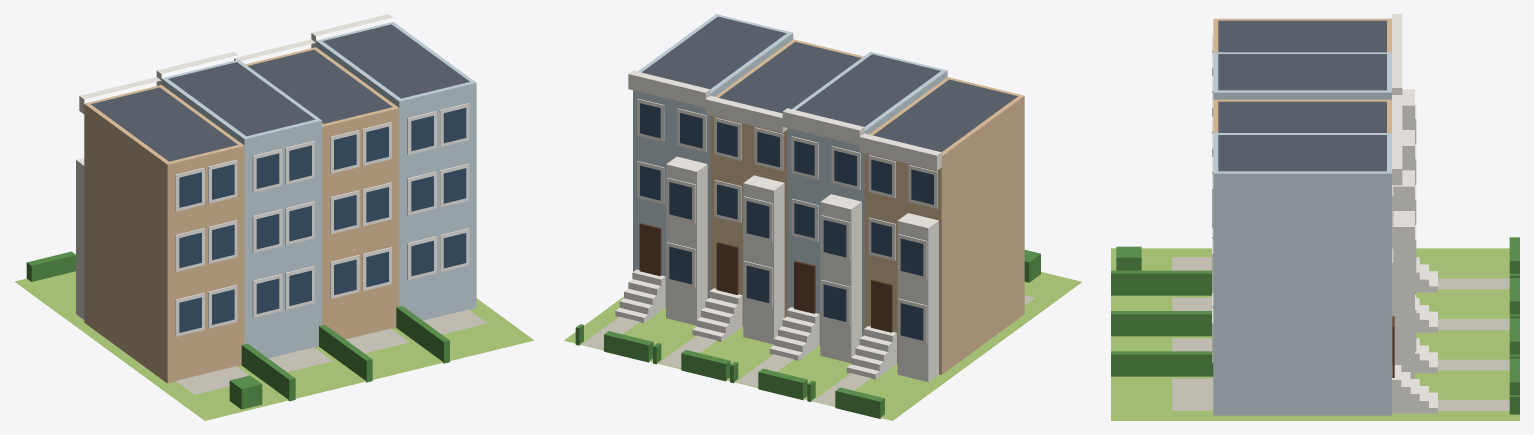
3 views of the same model, side by side, from view 1: azimuth 30°, elevation 25°; view 2: azimuth 150°, elevation 25°; view 3: azimuth 270°, elevation 25° (orthographic). The views are drawn at different scales.
Parts seen in each view (by area): view 1: house (×4), roof (×4), window_glass (×24), window_frame (×24), lawn, hedge (×4), patio (×4), bay, cornice (×2), tree_spot; view 2: house (×4), roof (×4), bay (×4), window_glass (×20), lawn, steps (×4), window_frame (×14), cornice (×4), door (×4), hedge (×4), path (×4), tree_spot; view 3: house (×4), roof (×4), lawn, hedge (×7), bay (×4), steps (×4), path (×4), patio (×4), cornice (×2), tree_spot.
Boxes of the visible parts, <box> form: house (×4): <box>84,22,476,383</box>; roof (×4): <box>91,24,469,161</box>; window_glass (×24): <box>179,108,466,332</box>; window_frame (×24): <box>175,103,469,336</box>; lawn: <box>15,271,534,420</box>; hedge (×4): <box>26,251,449,401</box>; patio (×4): <box>176,309,486,394</box>; bay: <box>76,158,84,319</box>; cornice (×2): <box>79,52,238,113</box>; tree_spot: <box>229,375,262,409</box>; house (×4): <box>633,14,1024,374</box>; roof (×4): <box>642,16,1017,152</box>; bay (×4): <box>666,156,938,381</box>; window_glass (×20): <box>640,103,933,340</box>; lawn: <box>564,272,1081,420</box>; steps (×4): <box>615,269,896,379</box>; window_frame (×14): <box>666,108,937,344</box>; cornice (×4): <box>628,70,941,170</box>; door (×4): <box>639,223,892,332</box>; hedge (×4): <box>604,331,884,418</box>; path (×4): <box>582,316,870,405</box>; tree_spot: <box>1024,250,1040,282</box>; house (×4): <box>1213,18,1391,415</box>; roof (×4): <box>1218,20,1386,171</box>; lawn: <box>1111,248,1519,420</box>; hedge (×7): <box>1111,237,1519,395</box>; bay (×4): <box>1392,89,1414,378</box>; steps (×4): <box>1392,257,1437,413</box>; path (×4): <box>1438,278,1509,410</box>; patio (×4): <box>1172,257,1213,410</box>; cornice (×2): <box>1392,47,1402,185</box>; tree_spot: <box>1116,246,1141,270</box>.
Bounding box in the file's own units: 16 × 10.7 × 16.
